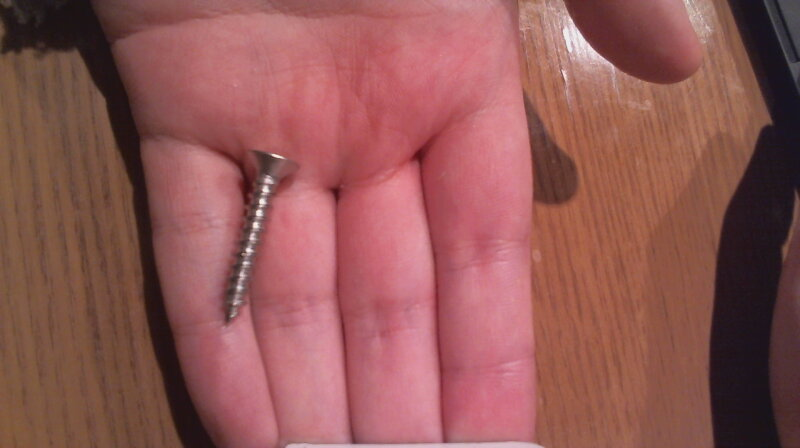S001: (211, 144, 301, 325)
